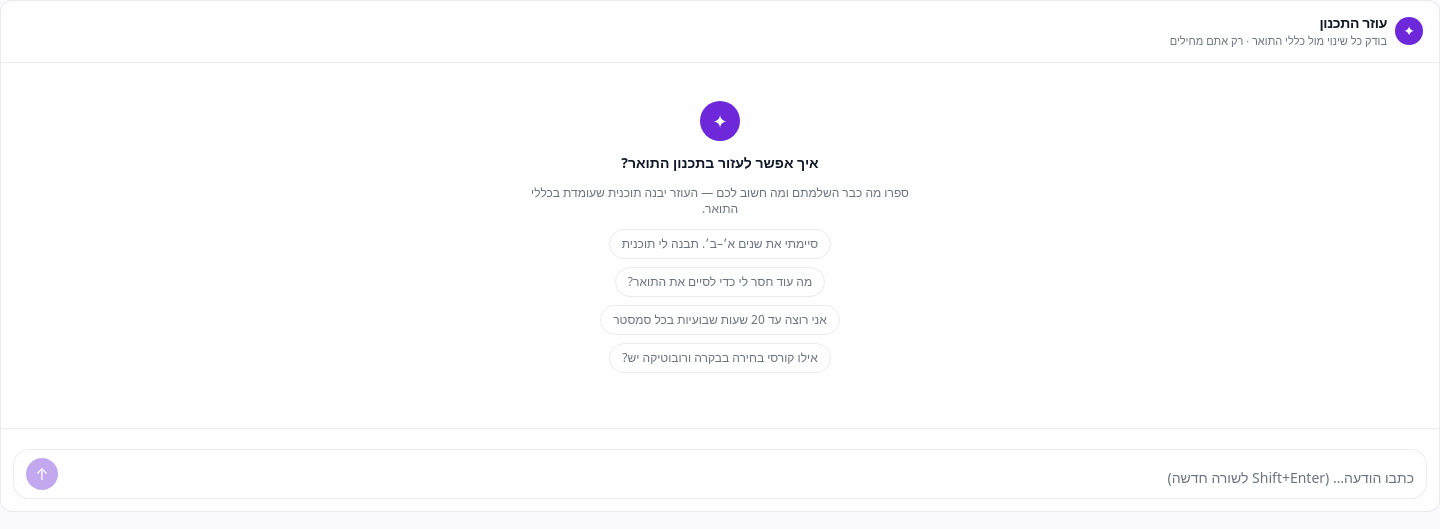
Test: renders an agent clarification question and offers build only when the agent says so
In the text box named "הודעה לעוזר האקדמי": point(740, 478) [66,466,1414,490], type "אני מתלבט"
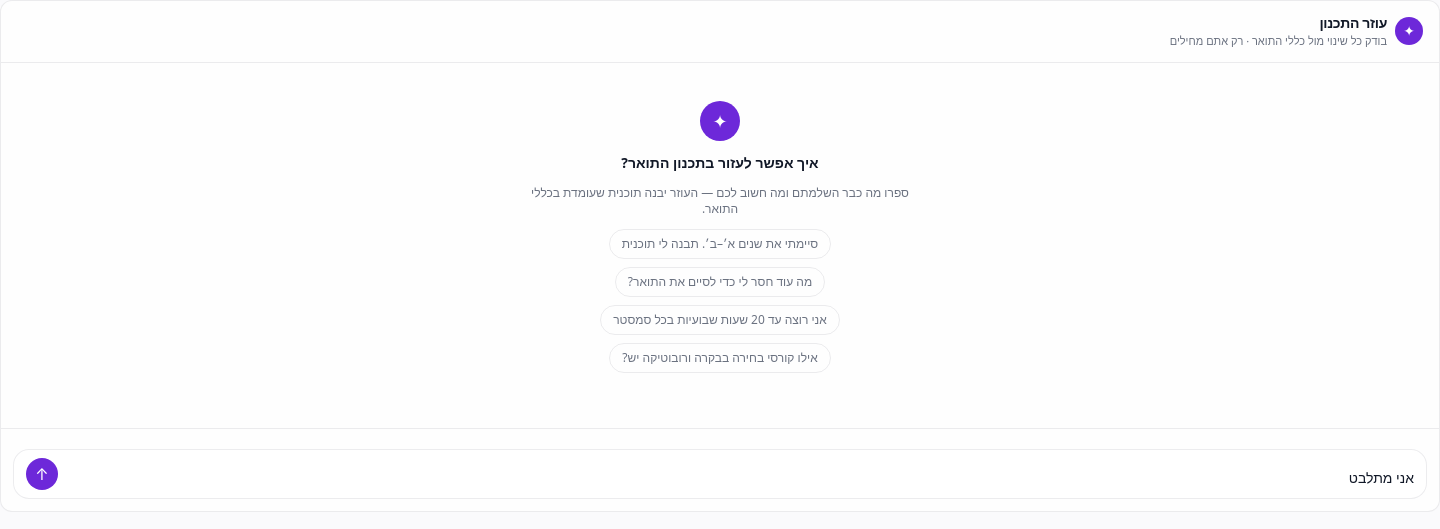
Click the button named "שלח לעוזר": point(42, 474) [26,458,58,490]
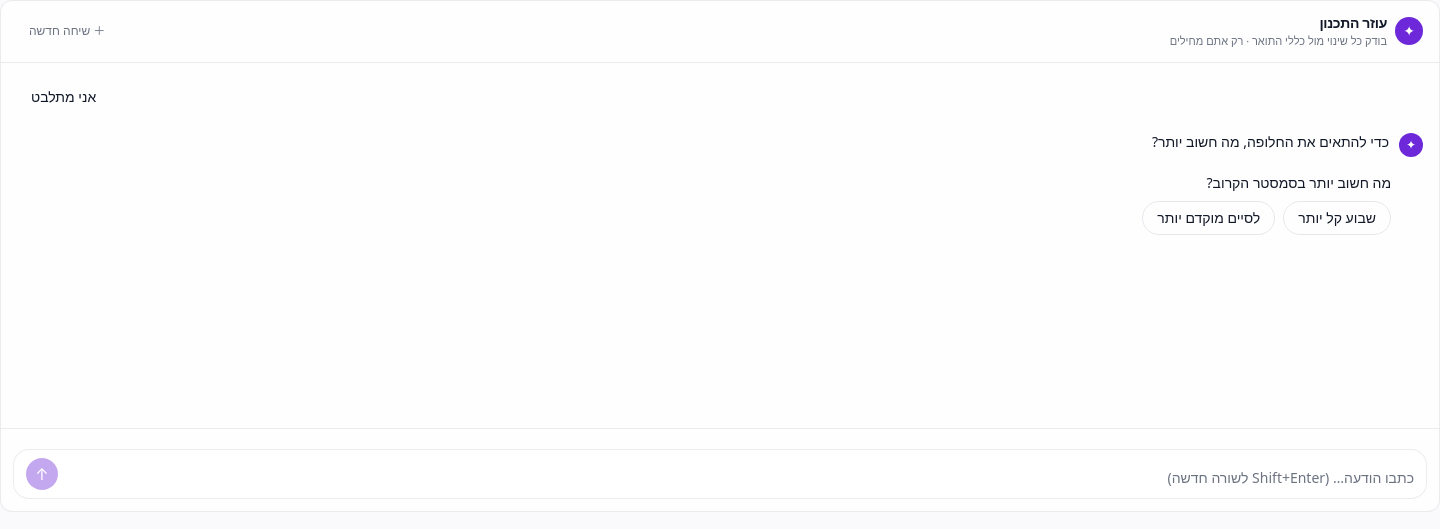
Expected: the button "בנה חלופות" is not shown
Expected: the element named "שאלת המשך מהעוזר האקדמי" shows "מה חשוב יותר בסמסטר הקרוב?", [1206,172,1391,192]
Expected: the button "שבוע קל יותר" is shown
Click the button "שבוע קל יותר": point(1337, 218) [1283,200,1391,234]
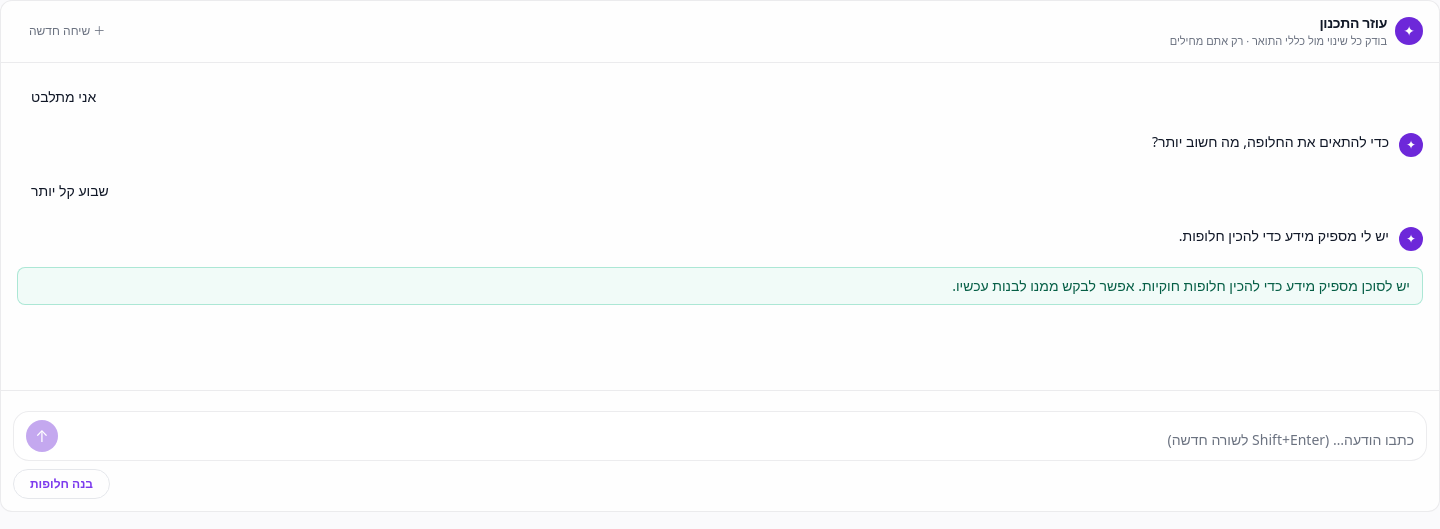
Expected: the button "בנה חלופות" is enabled, [13,469,110,499]
